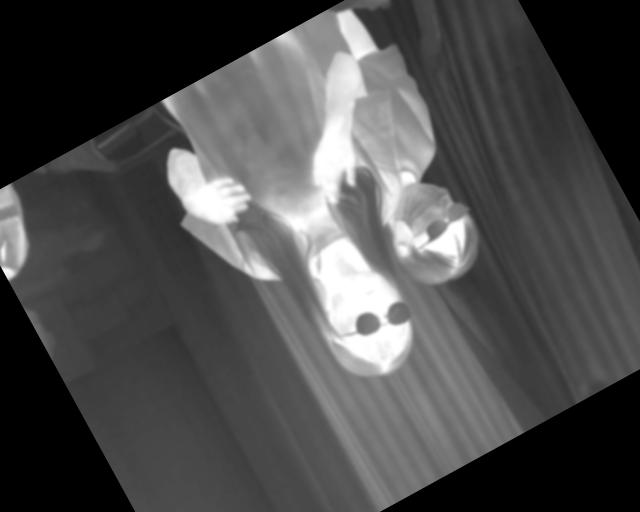face: (299, 252, 434, 395), (372, 165, 496, 298)
